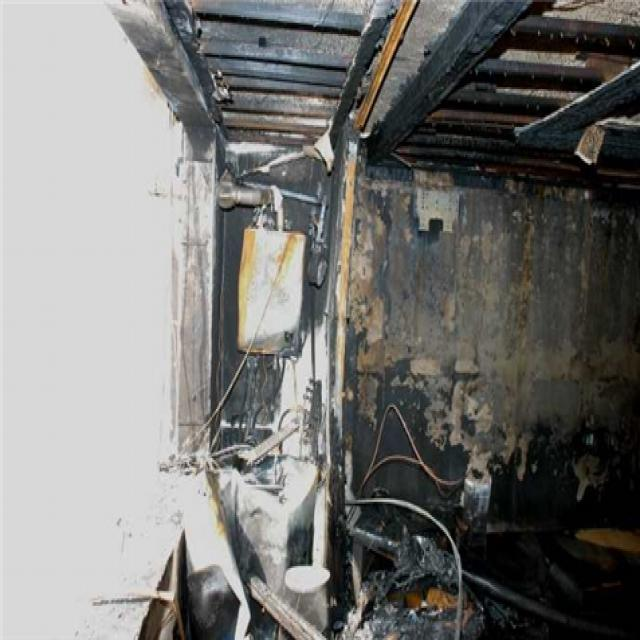Boiler: (221, 191, 323, 421)
